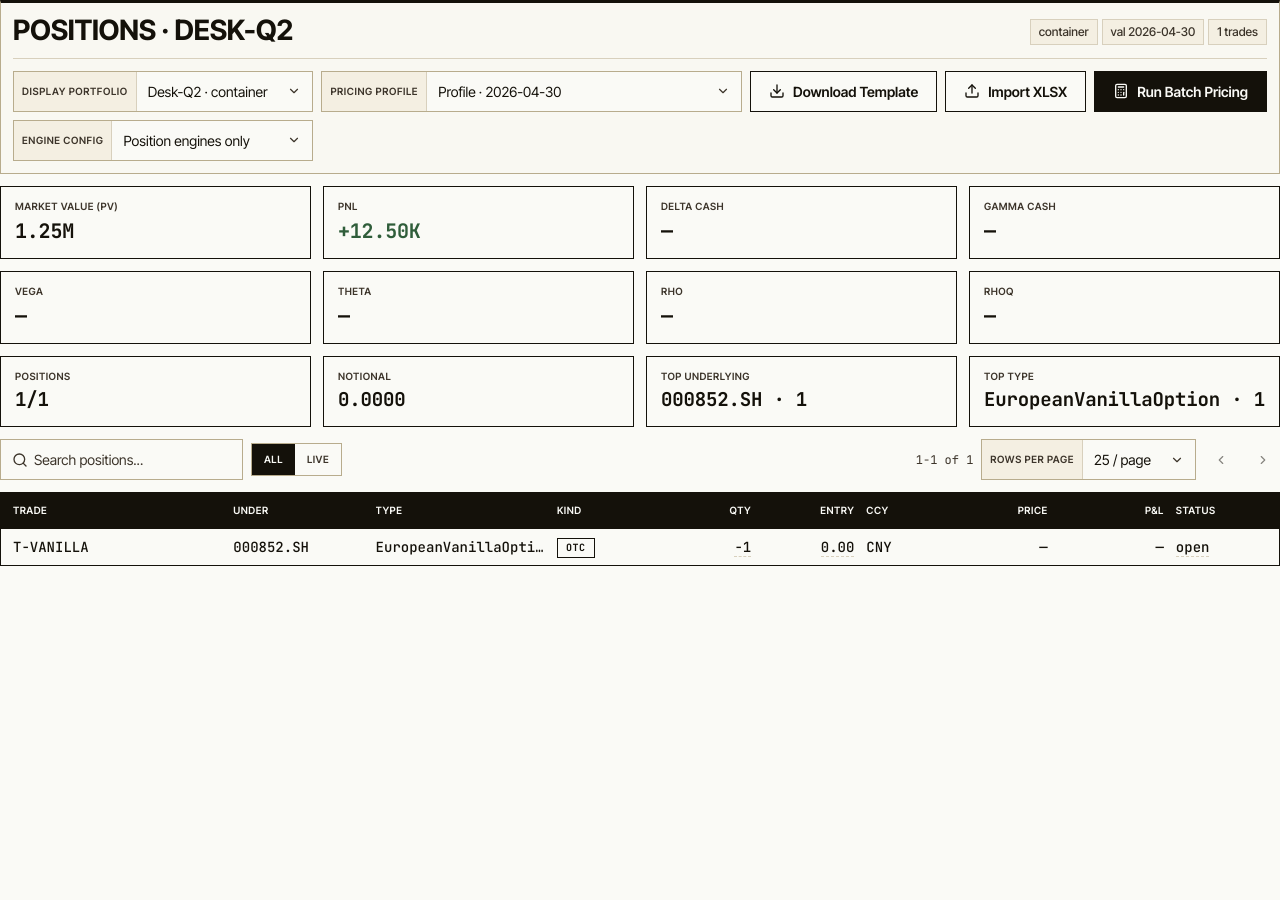
Scenario: Positions › extracts pricing parameters from a unique complete underlying profile row
This screenshot has width=1280, height=900.
Click the text "T-VANILLA" at (51,547), box [13, 538, 89, 556]
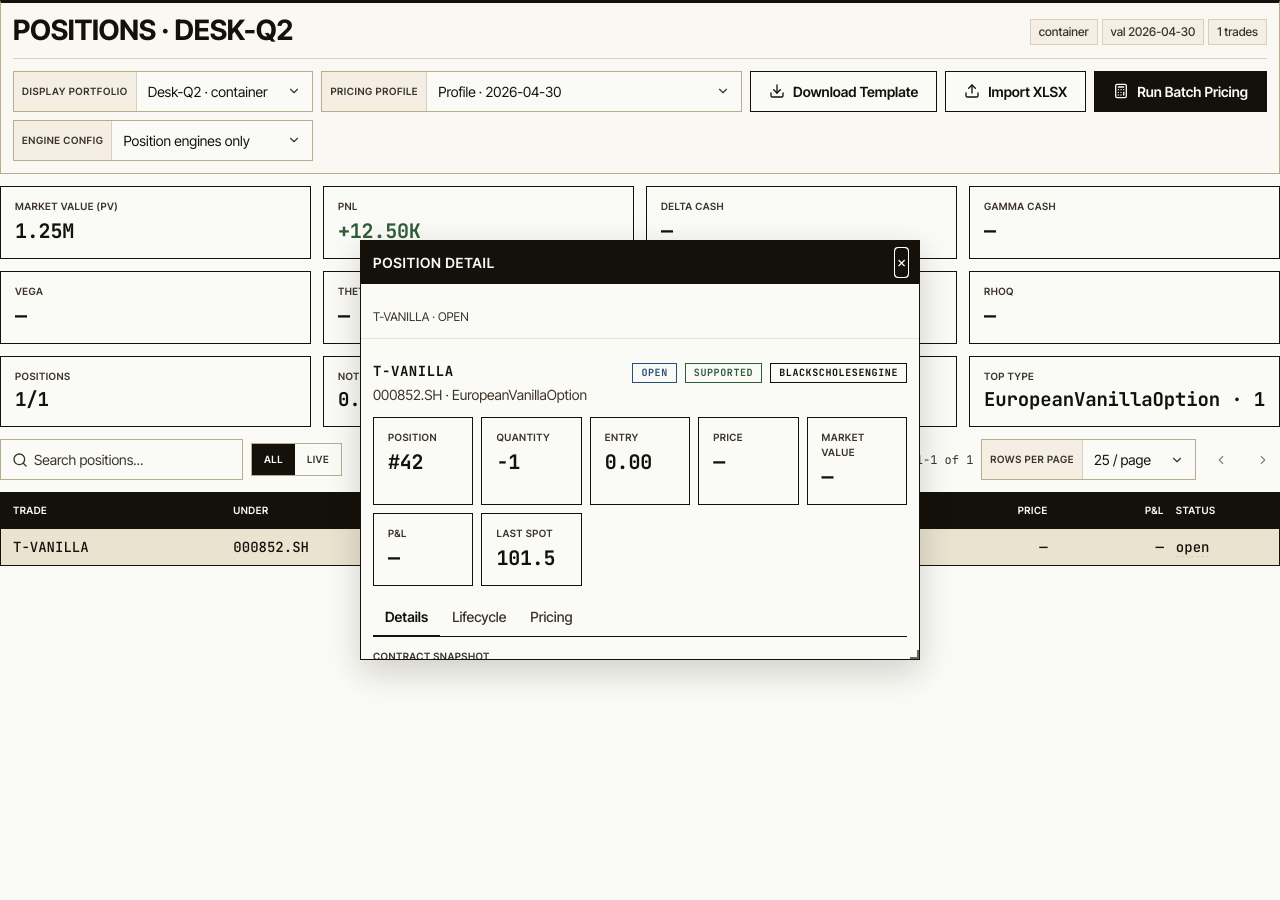
Click the tab "Pricing" at (551,617), box [518, 598, 584, 637]
(page scrolled)
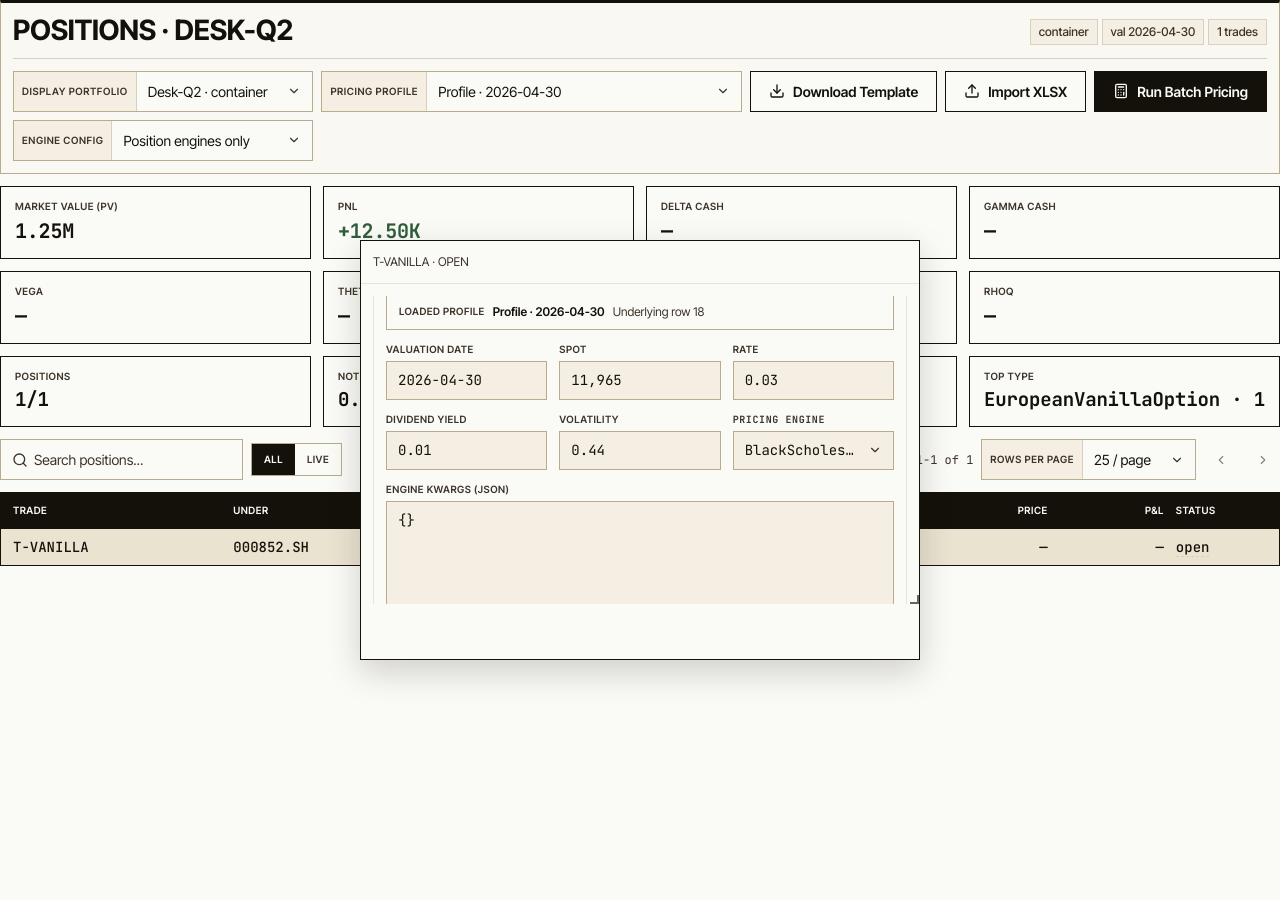
Expected: the text "Underlying row 18" is shown, [613, 303, 704, 321]
Expected: the number field named "Pricing rate" holds "0.03", [733, 361, 894, 400]
Expected: the number field named "Pricing dividend yield" holds "0.01", [386, 431, 547, 470]
